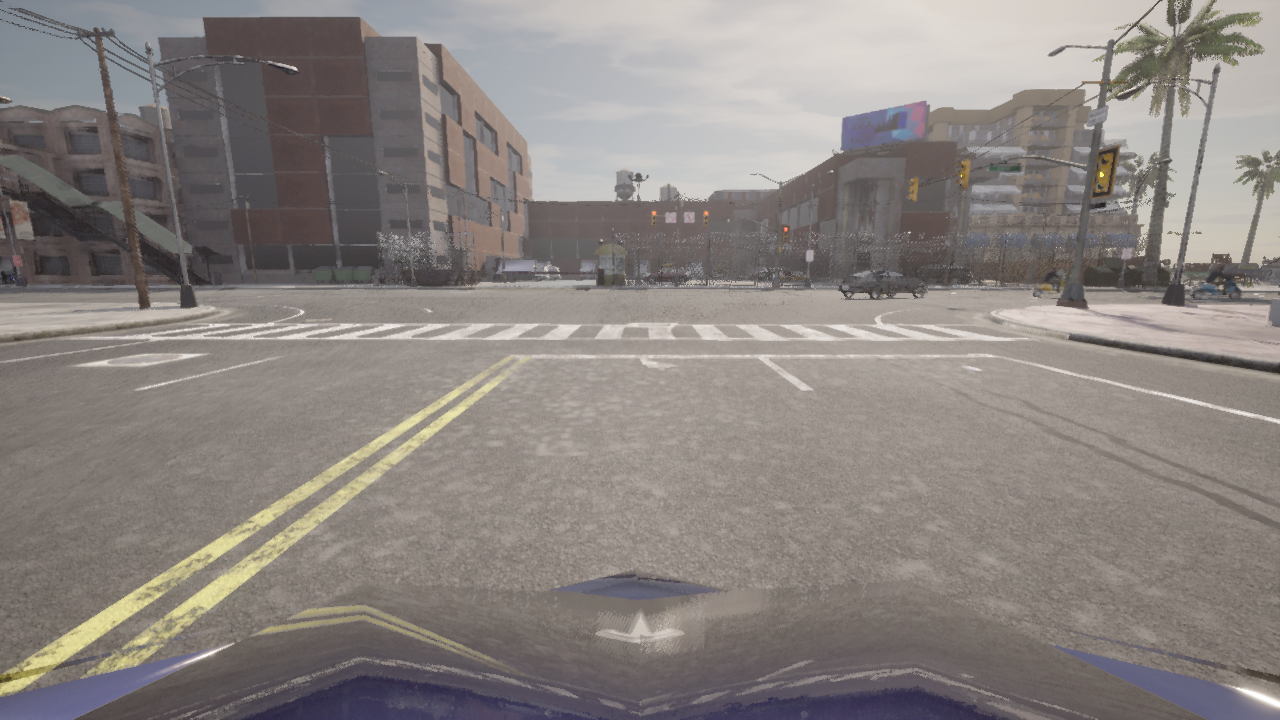cyclist: (0, 569, 1279, 719), (837, 268, 926, 298), (1189, 273, 1241, 299), (495, 260, 549, 281), (914, 263, 969, 283), (1030, 273, 1066, 297), (518, 261, 560, 280), (644, 267, 688, 283), (749, 267, 784, 280), (778, 270, 814, 281), (769, 271, 798, 281), (5, 273, 26, 286), (688, 263, 703, 279), (758, 270, 781, 280), (580, 263, 594, 279), (635, 263, 647, 279), (642, 275, 644, 278)
